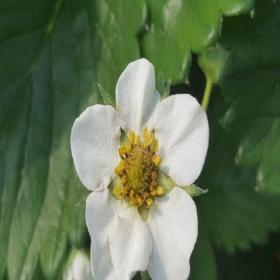Blossom Blight: (111, 125, 168, 209)
